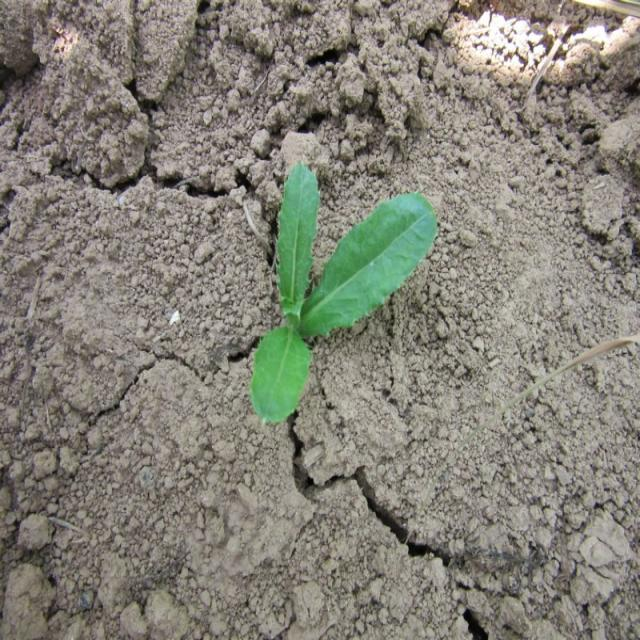field_thistle: (226, 132, 442, 434)
